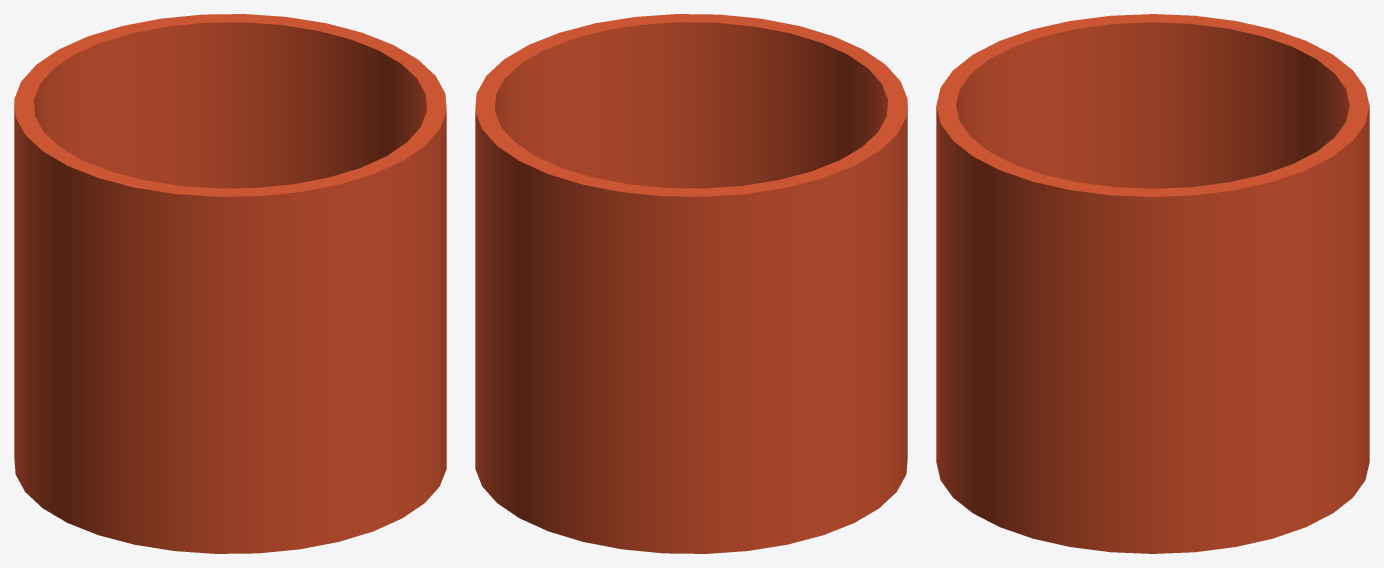
Rendered from classification_hydrocyclone_pressure.glb.
The picture shows the model from 3 angles, left to right: view 1: azimuth 30°, elevation 25°; view 2: azimuth 150°, elevation 25°; view 3: azimuth 270°, elevation 25°; orthographic projection.
Visible parts, largest first — view 1: pressure__back; view 2: pressure__back; view 3: pressure__back.
Part boxes in pixels (box(x1,y1,x2,y2)): pressure__back: box(14, 14, 446, 553); pressure__back: box(475, 14, 907, 553); pressure__back: box(936, 14, 1369, 553).
Size of the model in its own units: 0.33 by 0.3 by 0.33.
